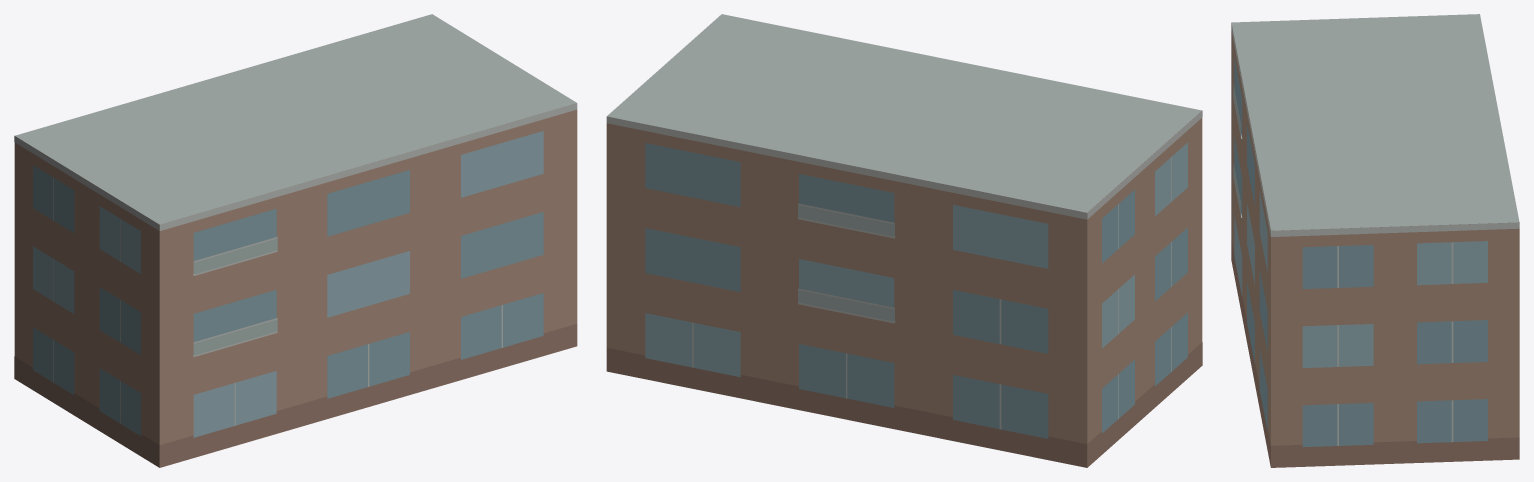
Rendered from survey-upis-32704611.glb.
3 renders of one model, left to right at view 1: azimuth 30°, elevation 25°; view 2: azimuth 150°, elevation 25°; view 3: azimuth 270°, elevation 25°, orthographic. The views are drawn at different scales.
Parts seen in each view (by area): view 1: survey-upis-32704611.tmp; view 2: survey-upis-32704611.tmp; view 3: survey-upis-32704611.tmp.
Part boxes in pixels (x1,y1,x2,y2): survey-upis-32704611.tmp: (14,14,577,467); survey-upis-32704611.tmp: (606,14,1202,467); survey-upis-32704611.tmp: (1231,14,1519,467).
Size of the model in its own units: 17.95 by 9.15 by 10.09.
